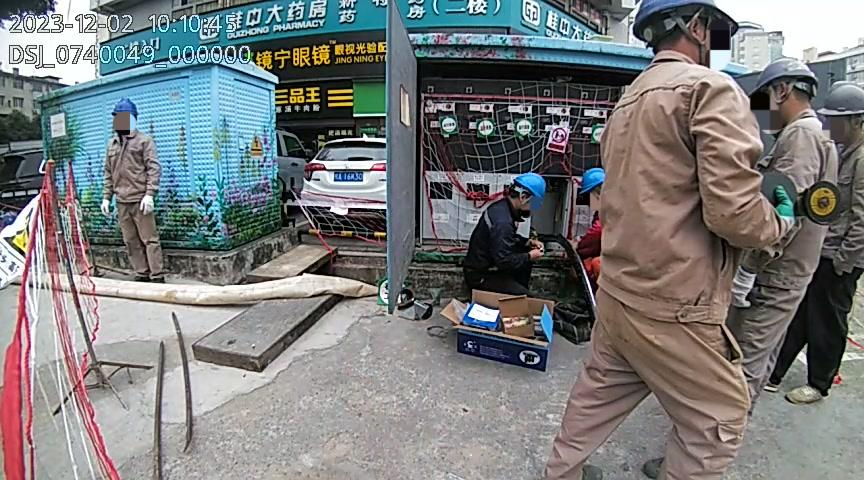halt: (633, 3, 741, 64), (755, 61, 821, 124), (824, 85, 864, 145), (511, 175, 549, 218), (581, 171, 610, 208), (113, 102, 142, 134)
inear: (678, 13, 719, 60), (771, 83, 796, 111), (518, 193, 536, 214)
